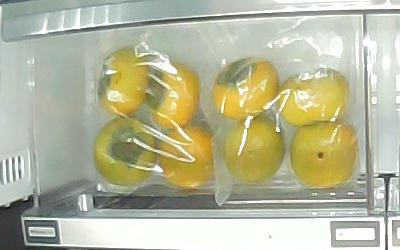persimmon_vinyl: (93, 115, 157, 188), (291, 120, 358, 189), (277, 67, 350, 129), (213, 56, 279, 120), (224, 117, 285, 184), (97, 45, 151, 116), (145, 64, 200, 130), (158, 126, 214, 189)
